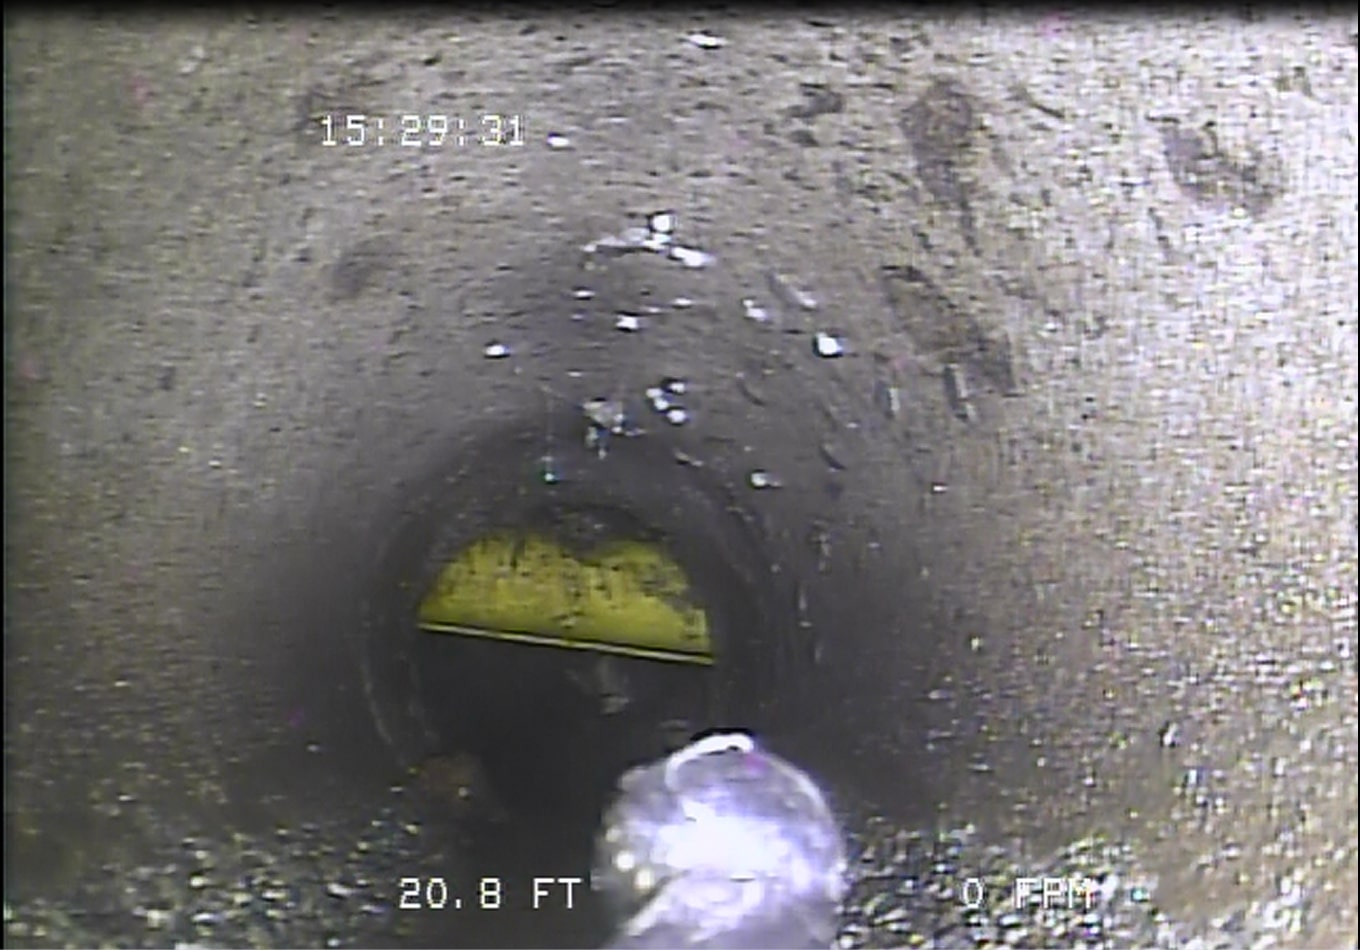cb: (381, 500, 767, 687)
